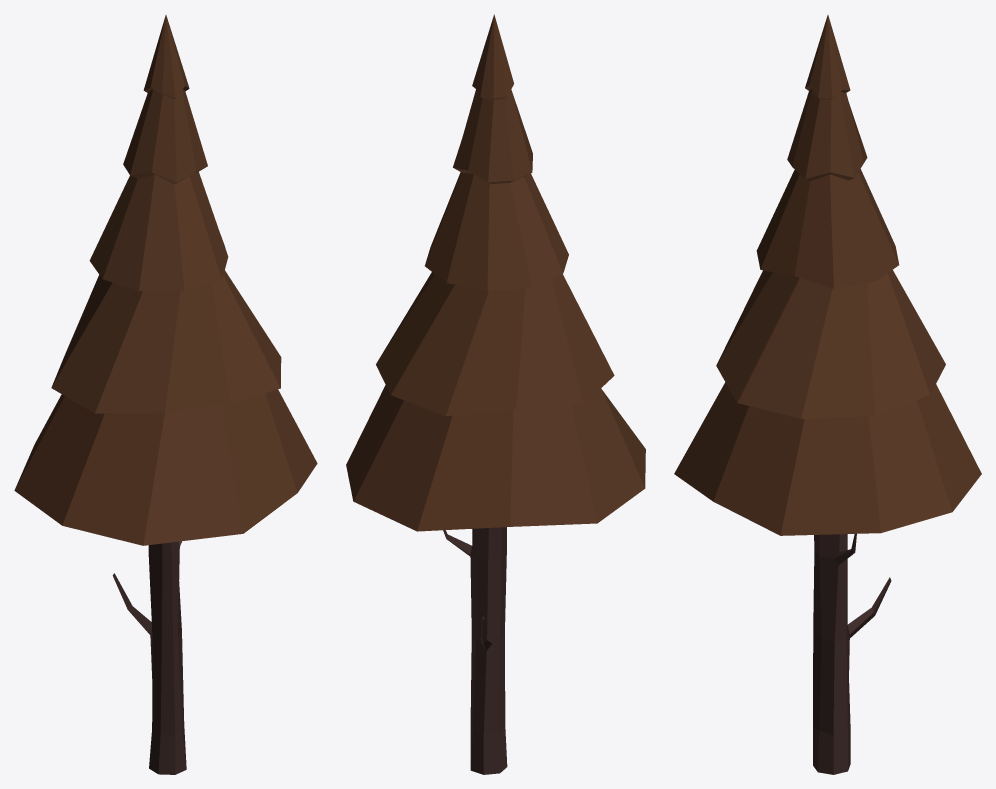
Rendered from SM_Fir_01.fbx.
3 views of the same model, side by side, from view 1: azimuth 30°, elevation 25°; view 2: azimuth 150°, elevation 25°; view 3: azimuth 270°, elevation 25° (orthographic).
Visible parts, largest first — view 1: SM_Fir_01; view 2: SM_Fir_01; view 3: SM_Fir_01.
Boxes of the visible parts, left/top/right/bottom form: SM_Fir_01: left=14, top=15, right=317, bottom=774; SM_Fir_01: left=346, top=14, right=645, bottom=774; SM_Fir_01: left=674, top=15, right=981, bottom=774.
Bounding box in the file's own units: 670 × 1896 × 705.
